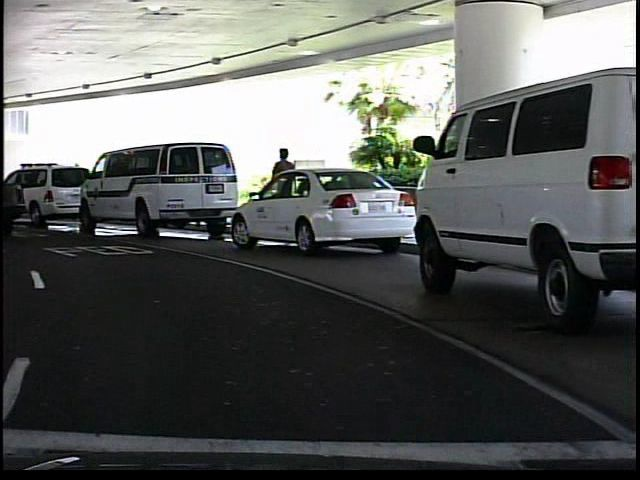person: (268, 144, 298, 228)
